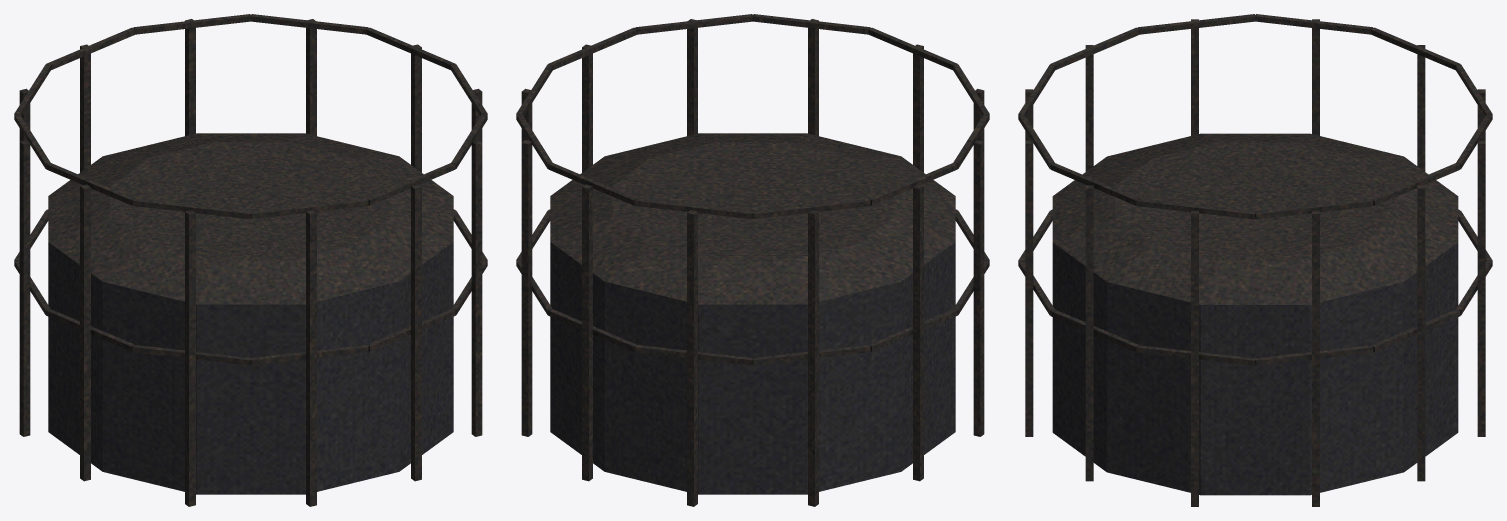
Rendered from SM_Gasholder.fbx.
The picture shows the model from 3 angles, left to right: view 1: azimuth 30°, elevation 25°; view 2: azimuth 150°, elevation 25°; view 3: azimuth 270°, elevation 25°; orthographic projection.
Parts seen in each view (by area): view 1: SM_Gasholder; view 2: SM_Gasholder; view 3: SM_Gasholder.
Boxes of the visible parts, x1,y1,x2,y2 form: SM_Gasholder: [14, 14, 487, 506]; SM_Gasholder: [516, 14, 989, 506]; SM_Gasholder: [1018, 14, 1492, 506].
Size of the model in its own units: 2934 by 2018 by 2934.
Materials: 1 (1 with a texture image).
